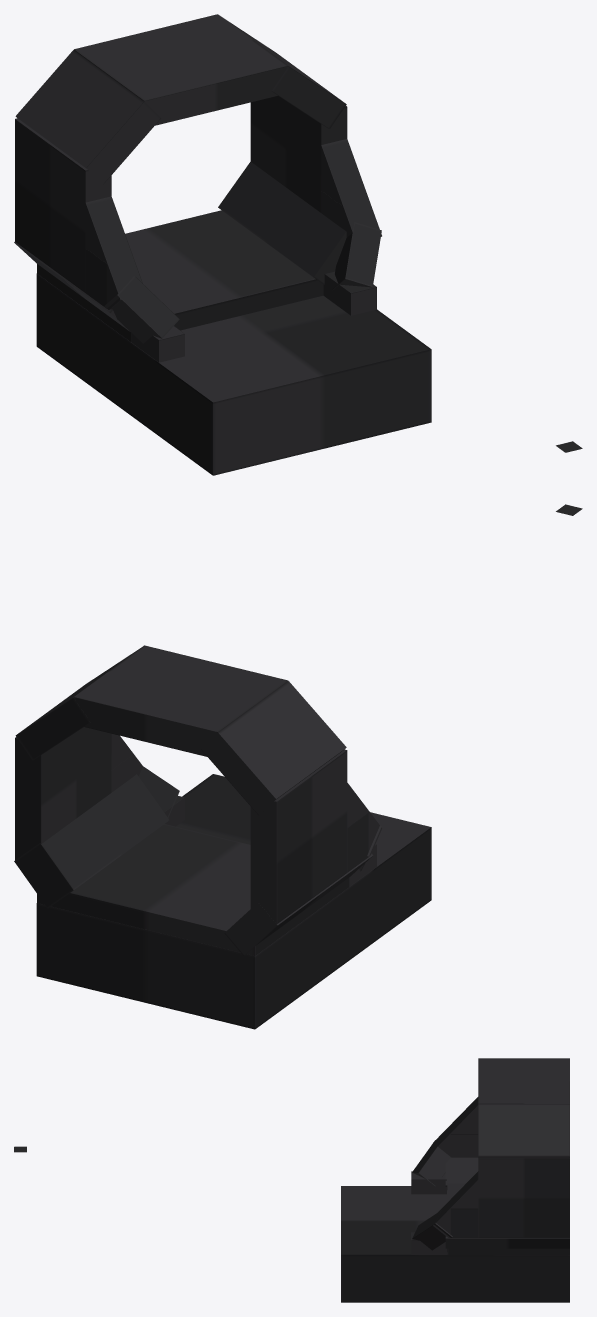
The model's file is delta.obj.
The picture shows the model from 3 angles, top to bottom: view 1: azimuth 30°, elevation 25°; view 2: azimuth 150°, elevation 25°; view 3: azimuth 270°, elevation 25°; orthographic projection. The views are drawn at different scales.
Visible parts, largest first — view 1: sight_17; view 2: sight_17; view 3: sight_17.
Part boxes in pixels (bbox=[...]): sight_17: bbox=[14, 14, 431, 475]; sight_17: bbox=[14, 645, 431, 1029]; sight_17: bbox=[341, 1058, 569, 1302].
Bounding box in the file's own units: 0.1896 × 0.2128 × 0.5437.
